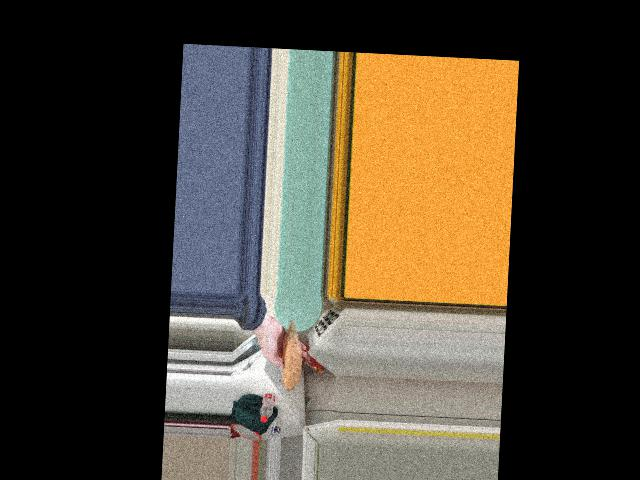sweet_potato: (276, 333, 300, 382)
